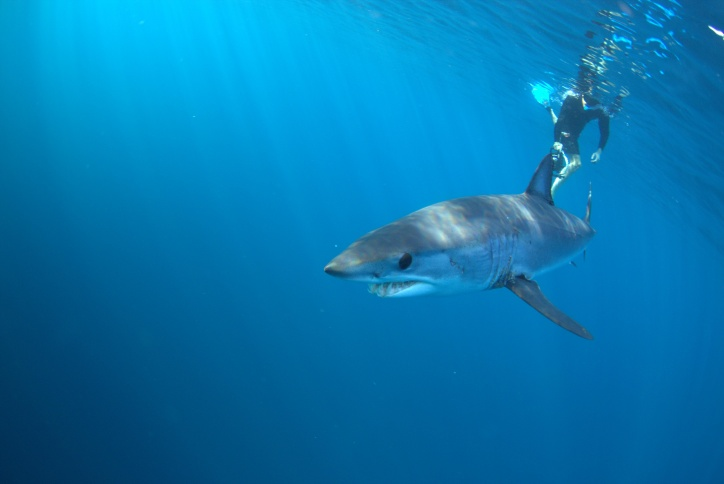Mako: (317, 141, 614, 348)
